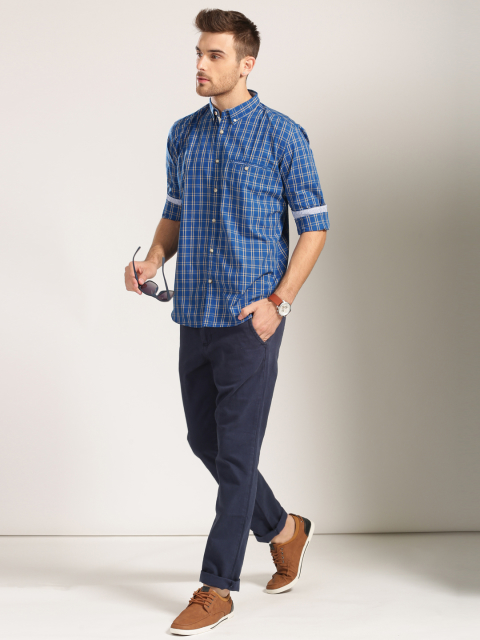jeans: (171, 326, 285, 587)
shirt: (160, 93, 326, 325)
